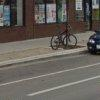Bicycle: (44, 22, 77, 52)
